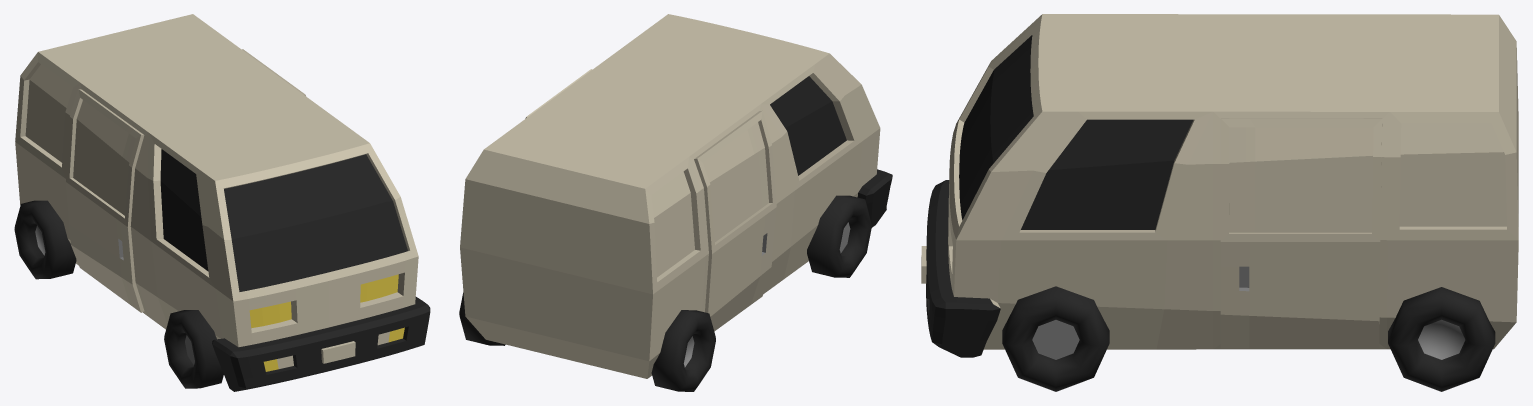
The model's file is van.fbx.
3 views of the same model, side by side, from view 1: azimuth 30°, elevation 25°; view 2: azimuth 150°, elevation 25°; view 3: azimuth 270°, elevation 25° (orthographic). The views are drawn at different scales.
Visible parts, largest first — view 1: Cube.002, Cube.001; view 2: Cube.002, Cube.001; view 3: Cube.002.
Boxes of the visible parts, left/top/right/bottom form: Cube.002: left=14, top=14, right=430, bottom=391; Cube.001: left=66, top=89, right=144, bottom=312; Cube.002: left=459, top=14, right=892, bottom=391; Cube.001: left=694, top=110, right=776, bottom=331; Cube.002: left=921, top=14, right=1518, bottom=391.
Bounding box in the file's own units: 240 × 223 × 455.
